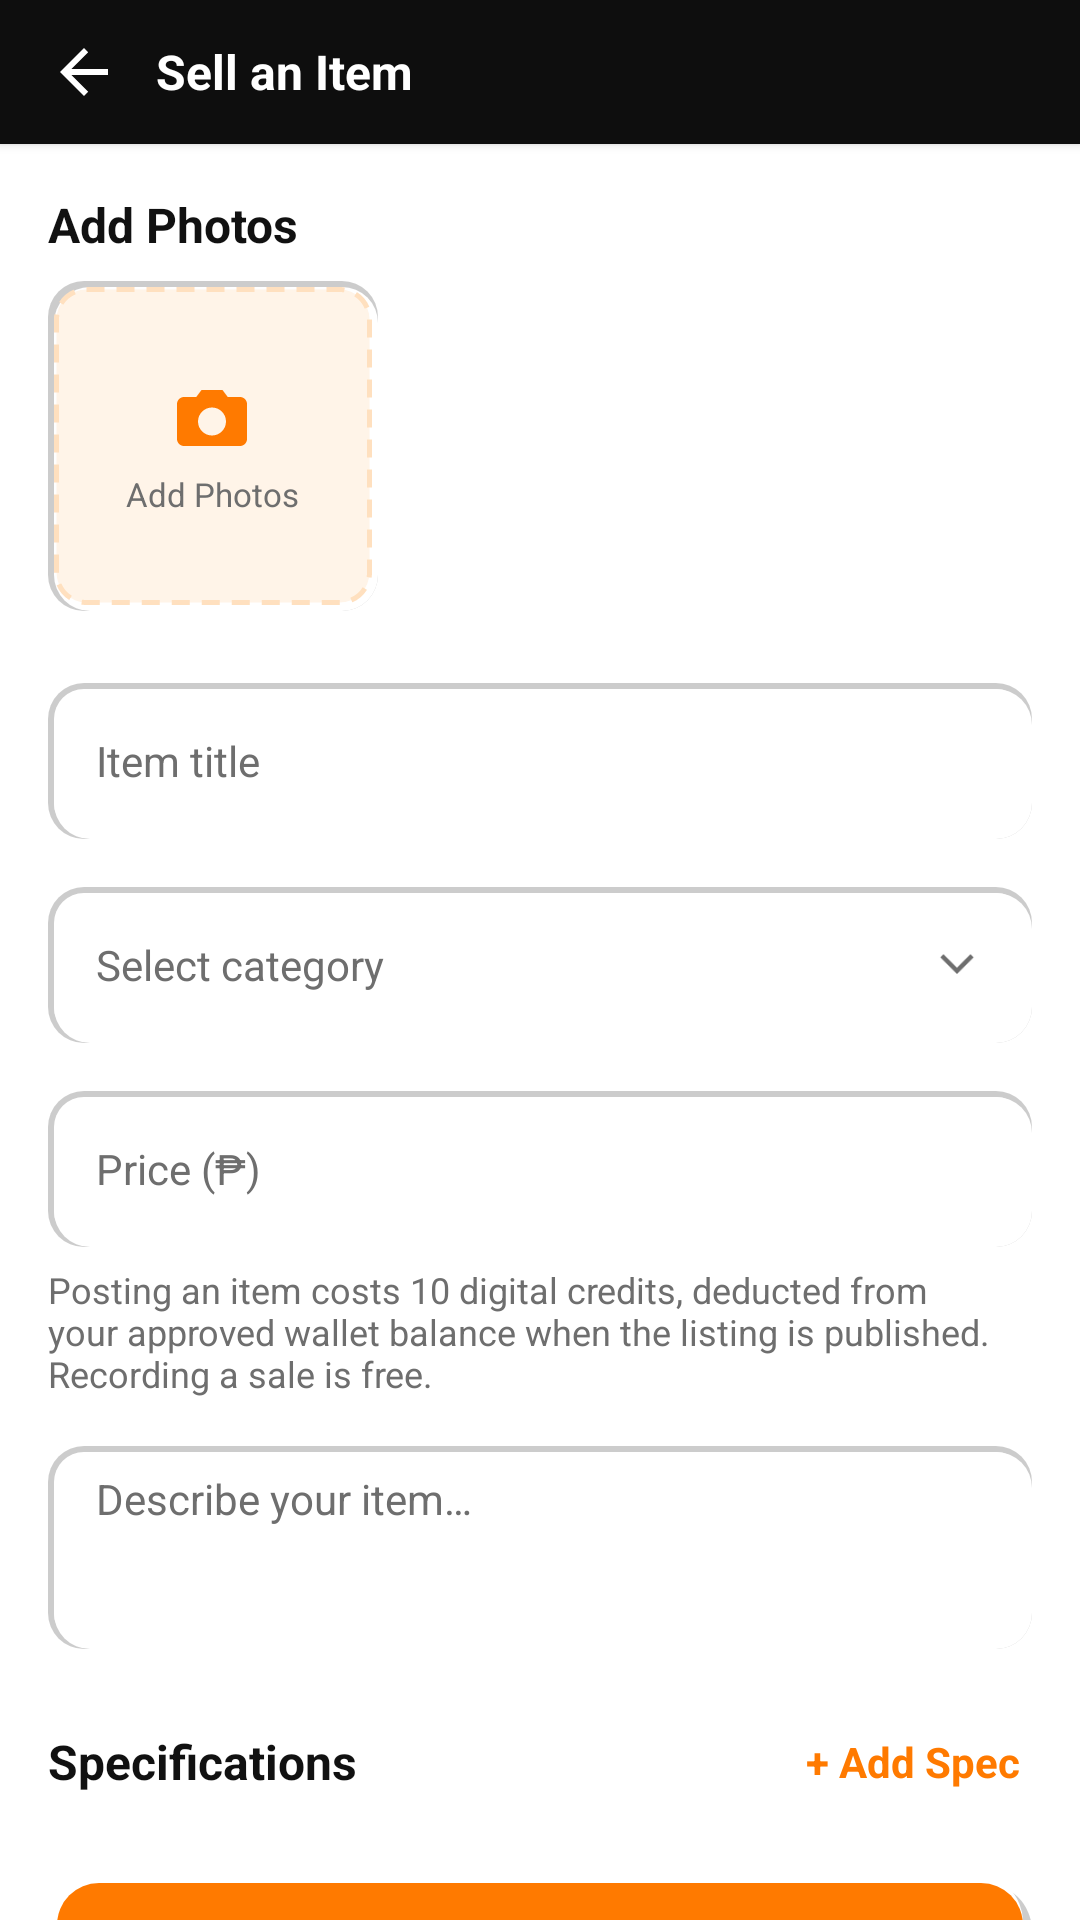

Where to tap for icons on this 1080w x 1920h app screen, as [x,y]:
Navigate back: [84,72]
